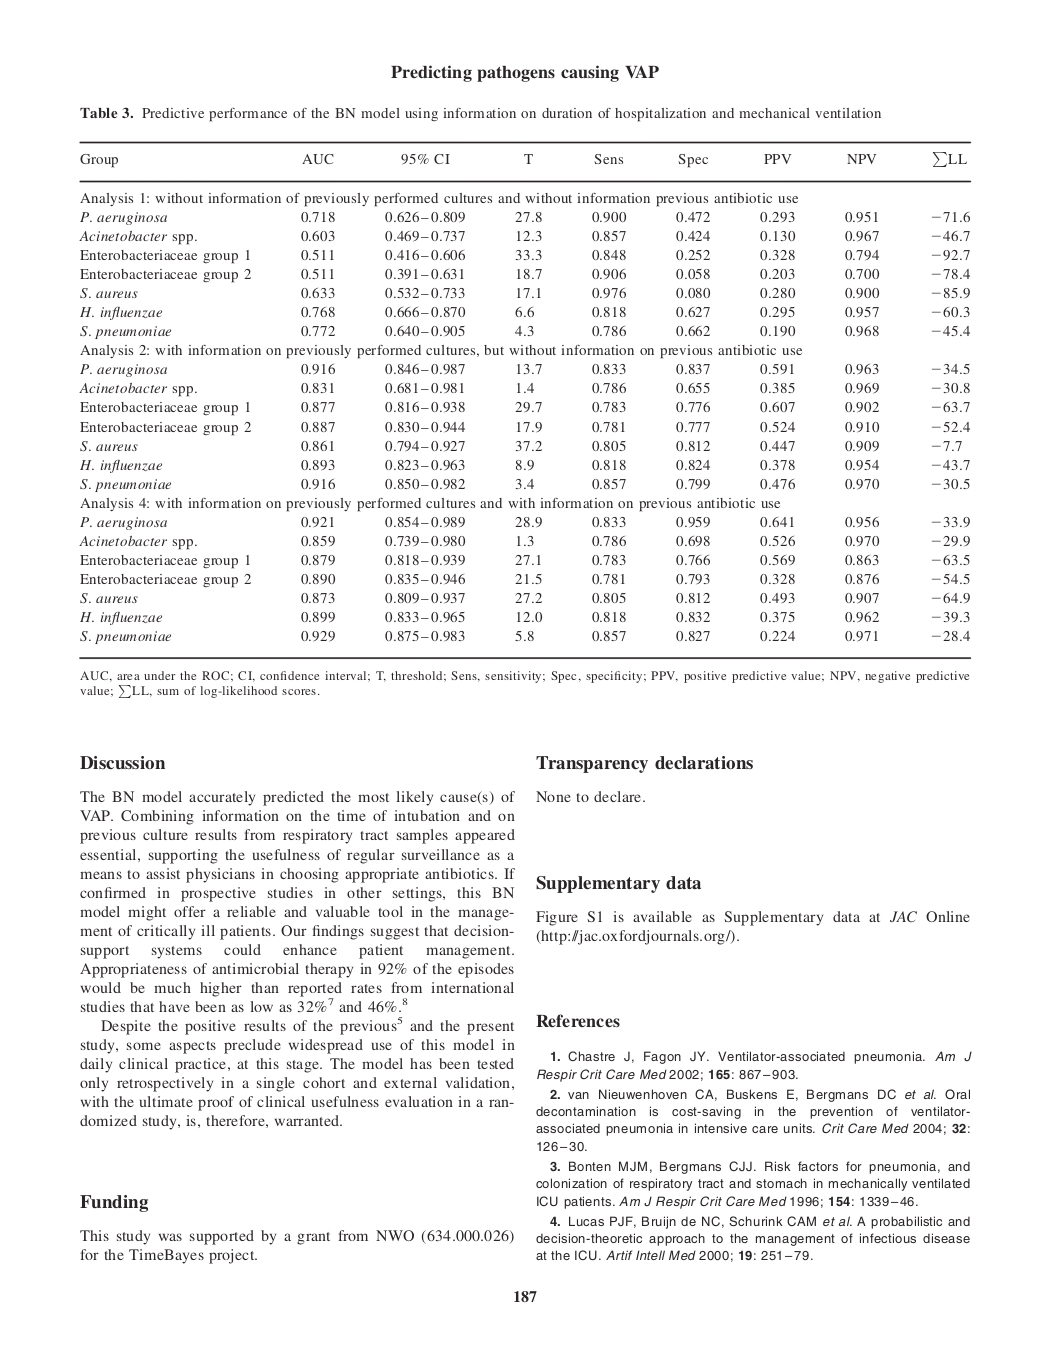Table: (79, 141, 971, 658)
